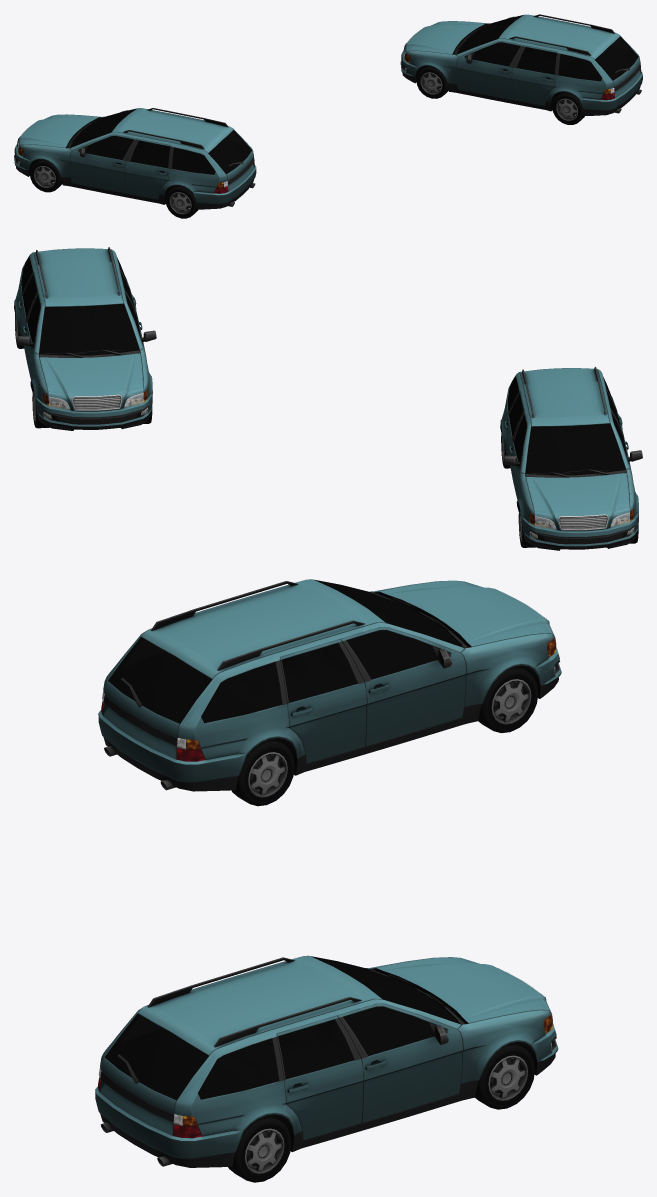
File: Wagon.glb
3 renders of one model, top to bottom at view 1: azimuth 30°, elevation 25°; view 2: azimuth 150°, elevation 25°; view 3: azimuth 270°, elevation 25°, orthographic. The views are drawn at different scales.
Visible parts, largest first — view 1: Wagon Body, Wagon Body_Body_0.001, Wagon Body_Glass_0.001, Wheel_A001_Wheel_0.001, Wheel_A_Wheel_0.001; view 2: Wagon Body, Wagon Body_Body_0.001, Wagon Body_Glass_0.001; view 3: Wagon Body, Wagon Body_Body_0.001, Wagon Body_Glass_0.001, Wheel_A003_Wheel_0.001, Wheel_A002_Wheel_0.001.
Boxes of the visible parts, x1,y1,x2,y2 form: Wagon Body: [14, 15, 641, 218]; Wagon Body_Body_0.001: [400, 14, 642, 115]; Wagon Body_Glass_0.001: [456, 15, 637, 80]; Wheel_A001_Wheel_0.001: [552, 92, 584, 124]; Wheel_A_Wheel_0.001: [416, 65, 448, 98]; Wagon Body: [21, 257, 642, 550]; Wagon Body_Body_0.001: [14, 247, 156, 430]; Wagon Body_Glass_0.001: [21, 257, 140, 355]; Wagon Body: [98, 579, 561, 1138]; Wagon Body_Body_0.001: [95, 955, 558, 1167]; Wagon Body_Glass_0.001: [105, 957, 460, 1099]; Wheel_A003_Wheel_0.001: [228, 1115, 291, 1182]; Wheel_A002_Wheel_0.001: [475, 1042, 534, 1109].
Size of the model in its own units: 11.29 by 1.38 by 4.12.
8 materials, 6 textured.
